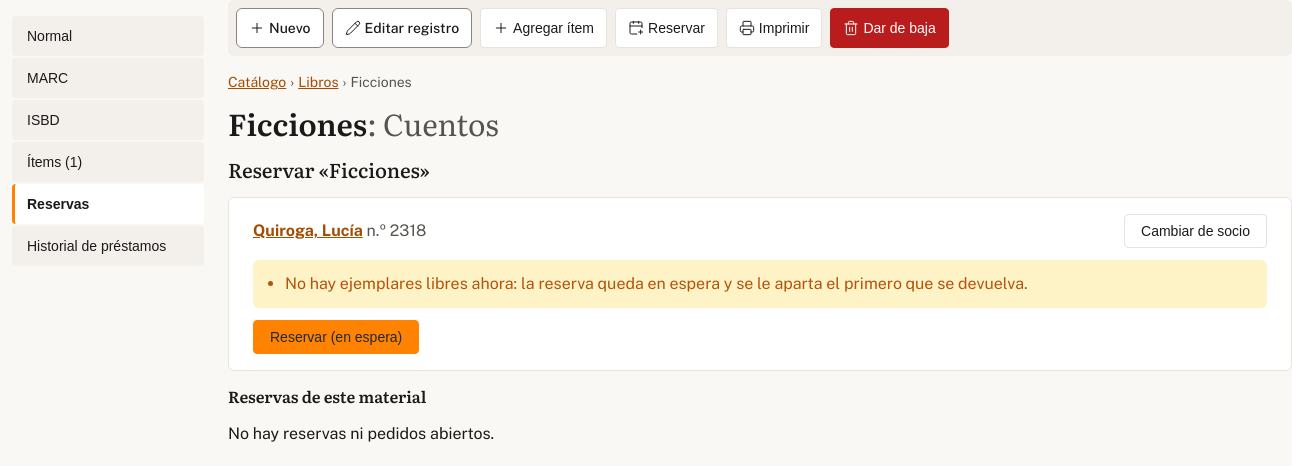
Test: FichaMaterialPanel › en Reservas, con todo prestado, la reserva del socio queda en espera
Expected: the list item "No hay ejemplares libres ahora: la reserva queda en espera" is shown, top-left (285, 274), bottom-right (1028, 293)
Click the button "Reservar (en espera)".
click(336, 337)  # box top-left (253, 320), bottom-right (419, 354)
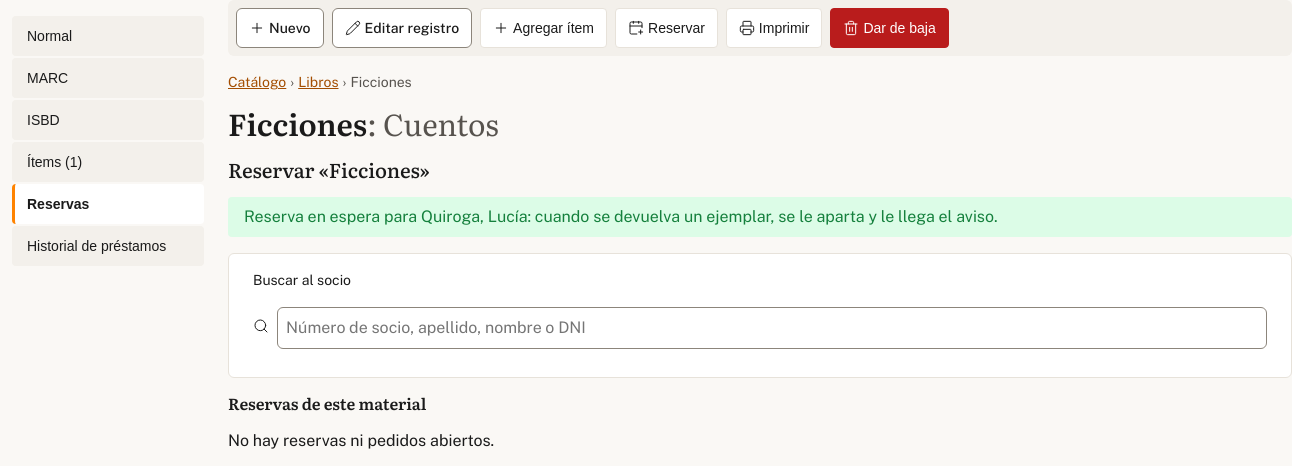
Expected: the text "Reserva en espera para Quiroga, Lucía" is shown, top-left (244, 207), bottom-right (998, 226)
